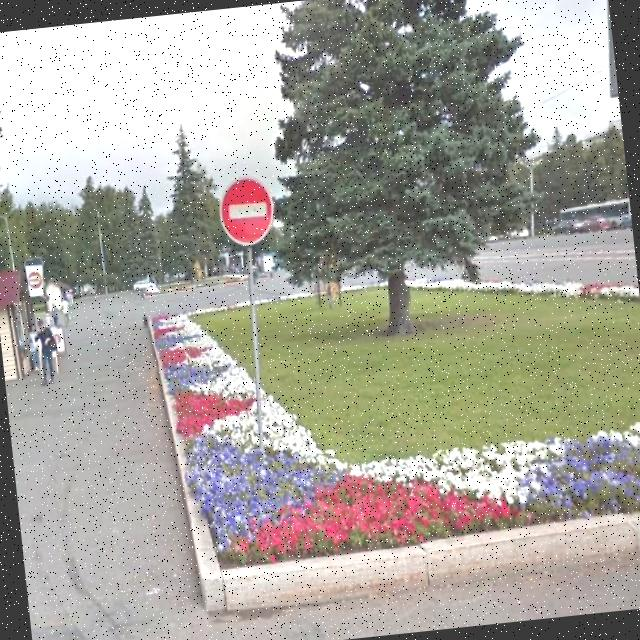Zakaz wjazdu: (213, 174, 280, 252)
